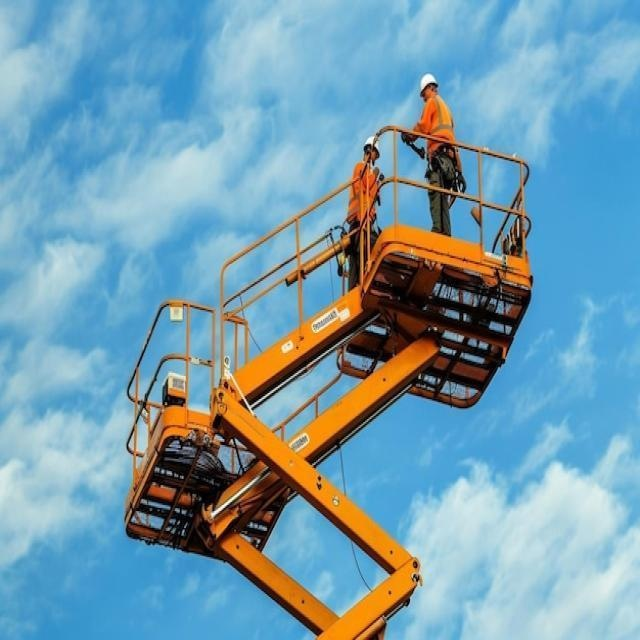Arnes_seguridad: (426, 141, 457, 201)
